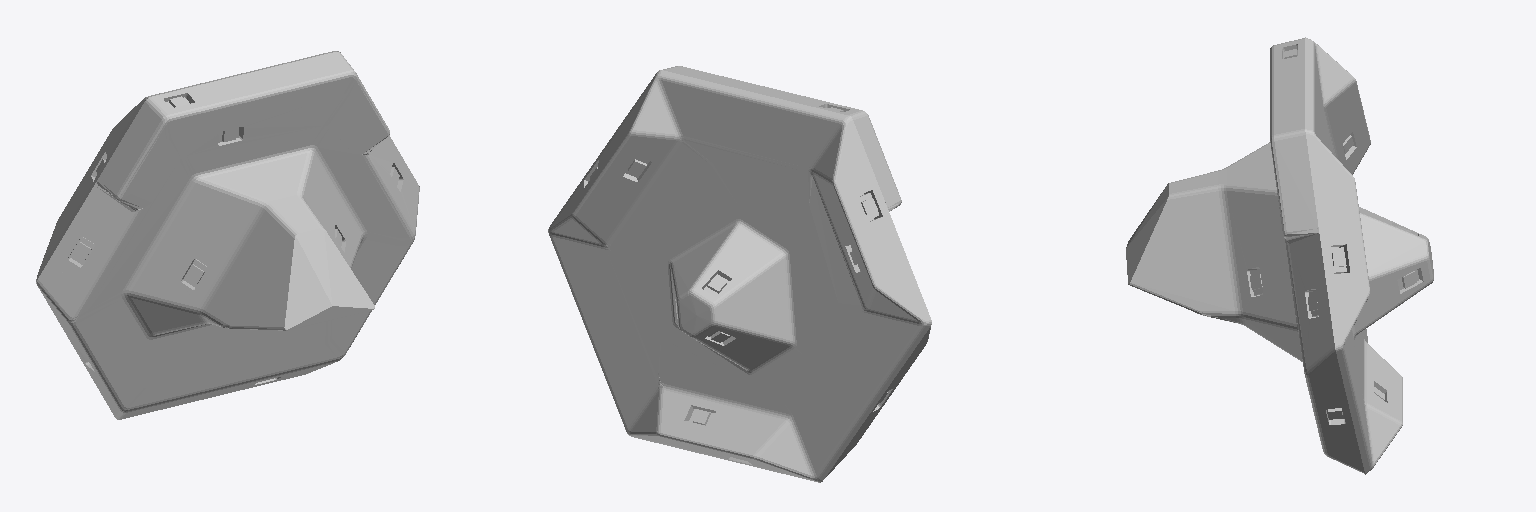
Rendered from vr_controller_05_wireless_b_trackhat.obj.
The picture shows the model from 3 angles: view 1: azimuth 30°, elevation 25°; view 2: azimuth 150°, elevation 25°; view 3: azimuth 270°, elevation 25°; orthographic projection.
Parts seen in each view (by area): view 1: track_hat group1; view 2: track_hat group1; view 3: track_hat group1.
Part boxes in pixels (x1,y1,x2,y2): track_hat group1: (36, 51, 419, 419); track_hat group1: (548, 66, 931, 482); track_hat group1: (1126, 37, 1433, 474).
Size of the model in its own units: 0.1084 by 0.0932 by 0.0755.